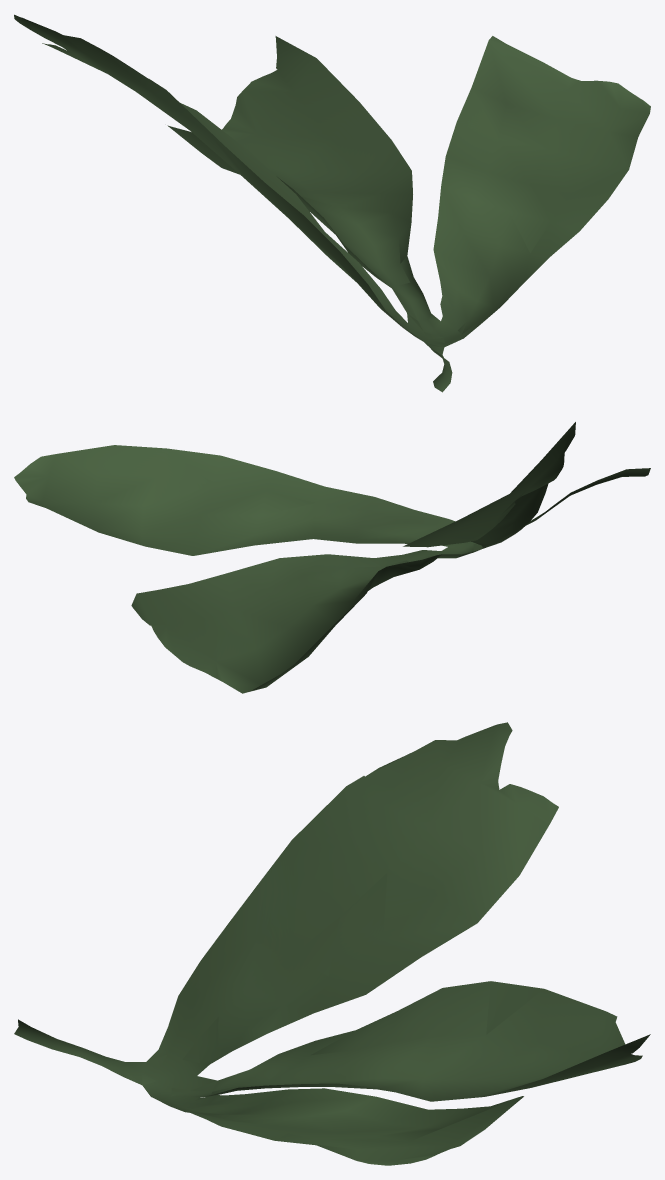
File: trees-leaves-leaf-cluster_v2.glb
3 renders of one model, top to bottom at view 1: azimuth 30°, elevation 25°; view 2: azimuth 150°, elevation 25°; view 3: azimuth 270°, elevation 25°, orthographic. The views are drawn at different scales.
Parts seen in each view (by area): view 1: Leaf Cluster_v2; view 2: Leaf Cluster_v2; view 3: Leaf Cluster_v2.
Boxes of the visible parts, left/top/right/bottom form: Leaf Cluster_v2: left=14, top=14, right=650, bottom=392; Leaf Cluster_v2: left=14, top=422, right=650, bottom=693; Leaf Cluster_v2: left=14, top=722, right=650, bottom=1165.
Bounding box in the file's own units: 0.15 × 0.0655 × 0.1499.
